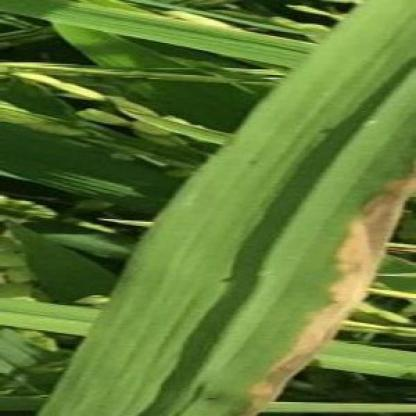Blight: (220, 165, 416, 416)
